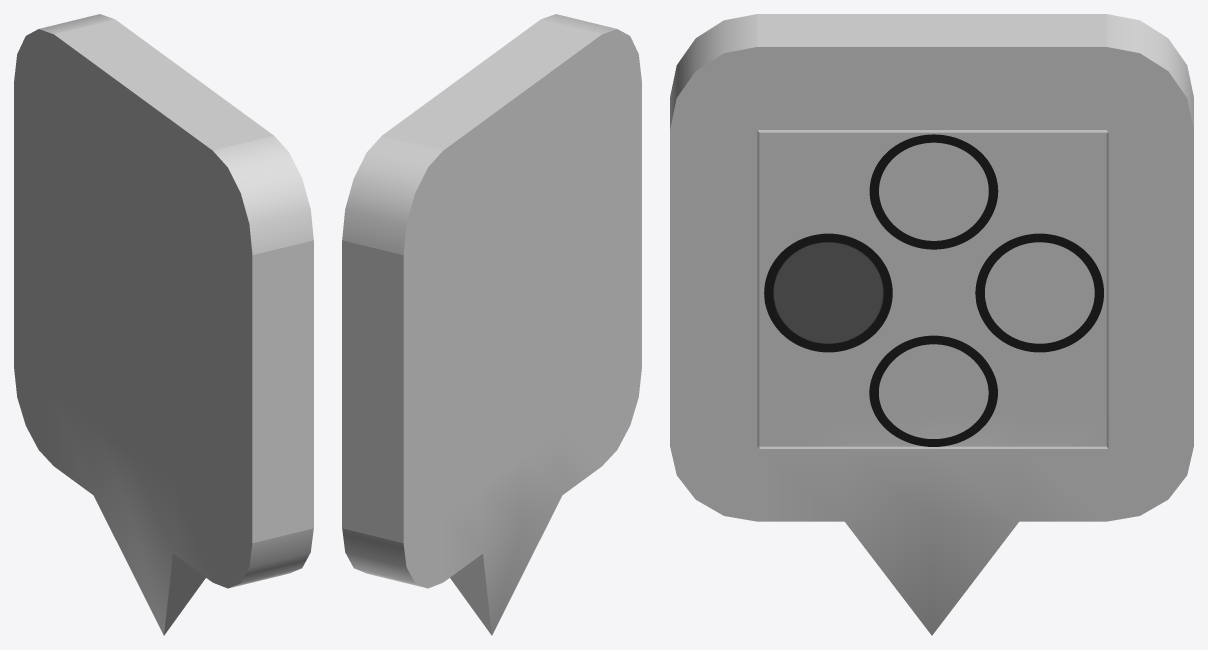
The model's file is CHAT_BUBBLE_LEFT.fbx.
3 renders of one model, left to right at view 1: azimuth 30°, elevation 25°; view 2: azimuth 150°, elevation 25°; view 3: azimuth 270°, elevation 25°, orthographic. The views are drawn at different scales.
Visible parts, largest first — view 1: Bubble; view 2: Bubble; view 3: Bubble.
Part boxes in pixels (box(x1,y1,x2,y2)): Bubble: box(14, 14, 313, 635); Bubble: box(342, 14, 641, 635); Bubble: box(670, 14, 1193, 635).
Bounding box in the file's own units: 33.03 × 255 × 200.
2 materials, 1 textured.
